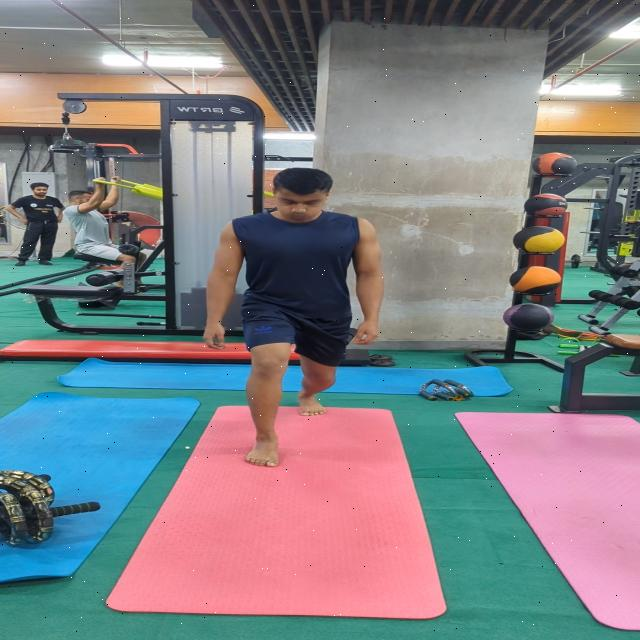Normal_Lunges: (198, 165, 391, 473)
